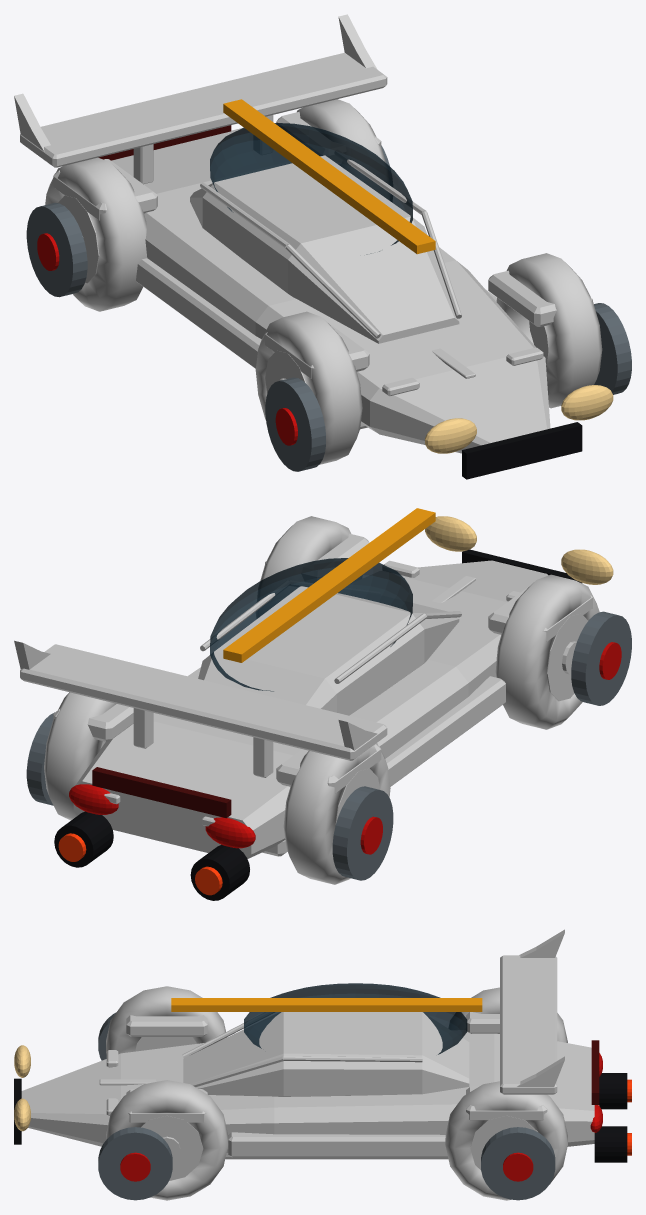
File: cb_carro_detallado.obj
3 renders of one model, top to bottom at view 1: azimuth 30°, elevation 25°; view 2: azimuth 150°, elevation 25°; view 3: azimuth 270°, elevation 25°, orthographic. The views are drawn at different scales.
Parts seen in each view (by area): view 1: cb_carro, Cowboy_Car_Canopy, Cowboy_Car_Stripe, Cowboy_Car_Rim_Rear_L, Cowboy_Car_Rim_Front_L, Cowboy_Car_Grille, Cowboy_Car_Rim_Front_R, Cowboy_Car_Headlight_R, Cowboy_Car_Headlight_L, Cowboy_Car_DarkRedTrim, Cowboy_Car_Hub_Rear_L, Cowboy_Car_Hub_Front_L; view 2: cb_carro, Cowboy_Car_Canopy, Cowboy_Car_Stripe, Cowboy_Car_Rim_Rear_L, Cowboy_Car_Rim_Front_L, Cowboy_Car_DarkRedTrim, Cowboy_Car_Exhaust_L, Cowboy_Car_Exhaust_R, Cowboy_Car_Headlight_L, Cowboy_Car_Rim_Rear_R, Cowboy_Car_Headlight_R, Cowboy_Car_Taillight_L (+6 smaller); view 3: cb_carro, Cowboy_Car_Stripe, Cowboy_Car_Rim_Front_R, Cowboy_Car_Rim_Rear_R, Cowboy_Car_Canopy, Cowboy_Car_Exhaust_R, Cowboy_Car_Exhaust_L, Cowboy_Car_Hub_Front_R, Cowboy_Car_Hub_Rear_R, Cowboy_Car_DarkRedTrim, Cowboy_Car_Headlight_R, Cowboy_Car_Headlight_L.
Boxes of the visible parts, x1,y1,x2,y2 form: cb_carro: [14, 14, 602, 464]; Cowboy_Car_Canopy: [210, 123, 412, 254]; Cowboy_Car_Stripe: [223, 99, 435, 254]; Cowboy_Car_Rim_Rear_L: [26, 203, 87, 297]; Cowboy_Car_Rim_Front_L: [265, 377, 325, 471]; Cowboy_Car_Grille: [462, 422, 582, 479]; Cowboy_Car_Rim_Front_R: [594, 303, 631, 394]; Cowboy_Car_Headlight_R: [561, 385, 613, 420]; Cowboy_Car_Headlight_L: [425, 418, 476, 453]; Cowboy_Car_DarkRedTrim: [98, 125, 231, 160]; Cowboy_Car_Hub_Rear_L: [37, 233, 59, 270]; Cowboy_Car_Hub_Front_L: [275, 408, 297, 445]; cb_carro: [14, 516, 599, 884]; Cowboy_Car_Canopy: [210, 558, 412, 691]; Cowboy_Car_Stripe: [223, 508, 435, 662]; Cowboy_Car_Rim_Rear_L: [332, 786, 393, 880]; Cowboy_Car_Rim_Front_L: [571, 611, 631, 705]; Cowboy_Car_DarkRedTrim: [92, 767, 231, 818]; Cowboy_Car_Exhaust_L: [190, 844, 249, 900]; Cowboy_Car_Exhaust_R: [54, 811, 113, 867]; Cowboy_Car_Headlight_L: [561, 549, 613, 584]; Cowboy_Car_Rim_Rear_R: [26, 712, 54, 805]; Cowboy_Car_Headlight_R: [425, 516, 476, 551]; Cowboy_Car_Taillight_L: [205, 817, 255, 848]; cb_carro: [21, 929, 599, 1200]; Cowboy_Car_Stripe: [171, 998, 482, 1011]; Cowboy_Car_Rim_Front_R: [98, 1127, 172, 1200]; Cowboy_Car_Rim_Rear_R: [481, 1127, 555, 1200]; Cowboy_Car_Canopy: [244, 983, 467, 1054]; Cowboy_Car_Exhaust_R: [594, 1126, 627, 1162]; Cowboy_Car_Exhaust_L: [599, 1073, 627, 1109]; Cowboy_Car_Hub_Front_R: [120, 1152, 150, 1181]; Cowboy_Car_Hub_Rear_R: [503, 1152, 533, 1181]; Cowboy_Car_DarkRedTrim: [591, 1040, 599, 1104]; Cowboy_Car_Headlight_R: [14, 1098, 30, 1131]; Cowboy_Car_Headlight_L: [14, 1045, 30, 1077].
Bounding box in the file's own units: 3.24 × 1.78 × 6.46.
